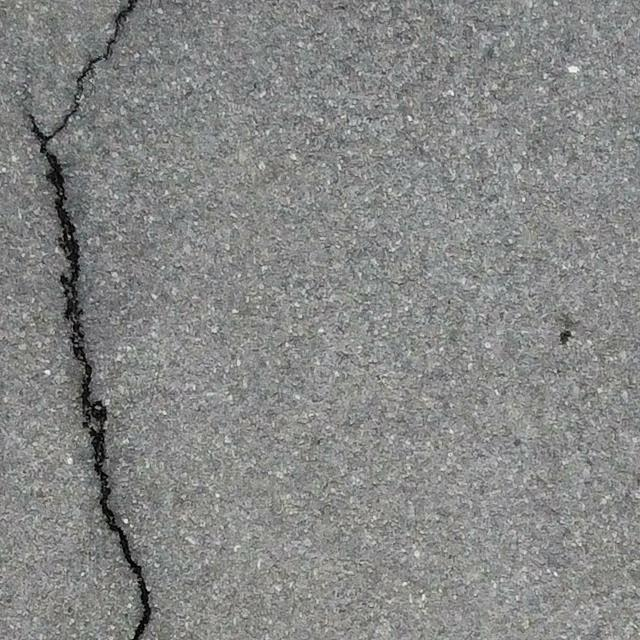LongitudinalCrack: (28, 1, 151, 640)
